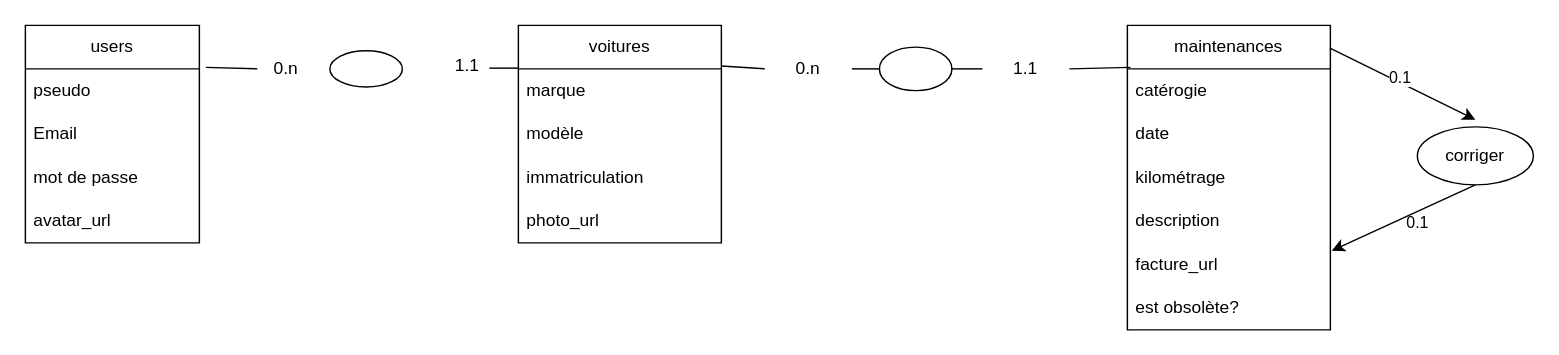
The diagram is 1559 pixels wide and 355 high, and some of its shapes have lost their labels. Each missing label, with the centre of its shape:
avoir: [915,68]
possèder: [365,68]
